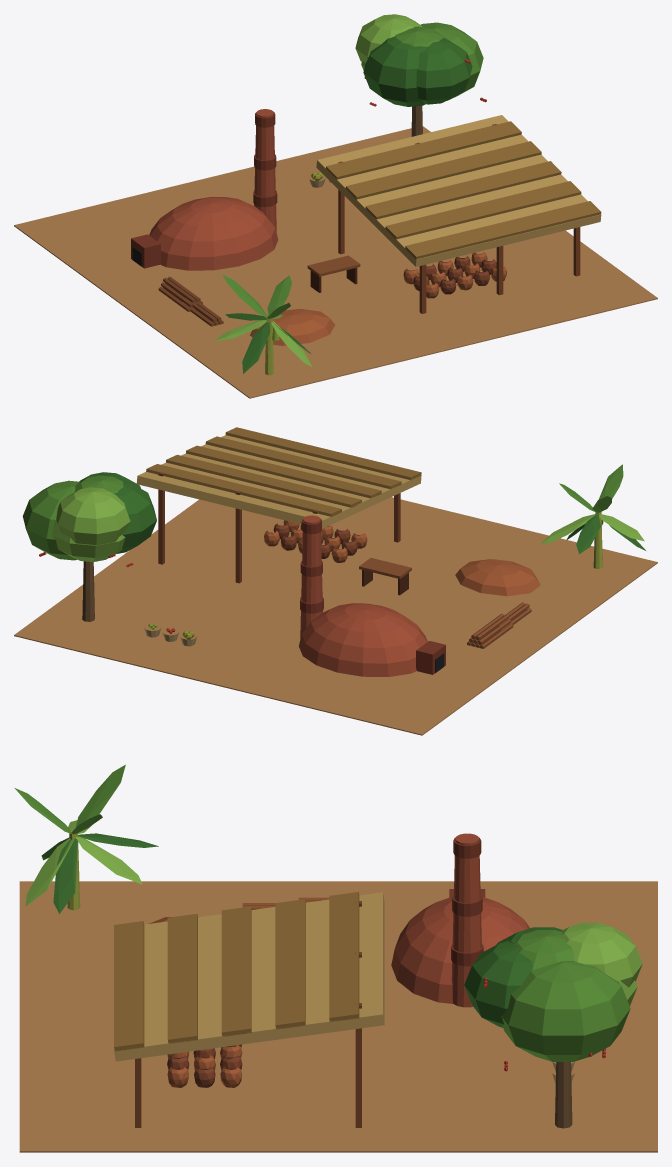
Rendered from factory_2.glb.
3 renders of one model, top to bottom at view 1: azimuth 30°, elevation 25°; view 2: azimuth 150°, elevation 25°; view 3: azimuth 270°, elevation 25°, orthographic. The views are drawn at different scales.
Visible parts, largest first — view 1: body; view 2: body; view 3: body.
Boxes of the visible parts, box(x1,y1,x2,y2) form: body: box(14, 14, 657, 398); body: box(14, 427, 657, 735); body: box(14, 764, 657, 1152).
Size of the model in its own units: 17.07 by 5.21 by 16.04.
